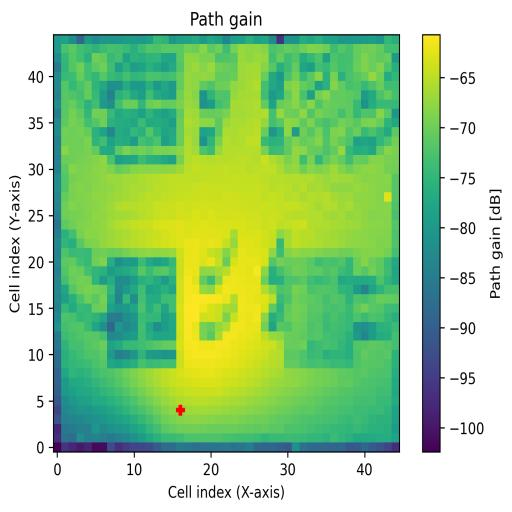Concrete: (284, 55, 384, 155)
Glass: (108, 52, 184, 173)
Metal: (284, 257, 354, 368)
Wood: (107, 257, 177, 368)
